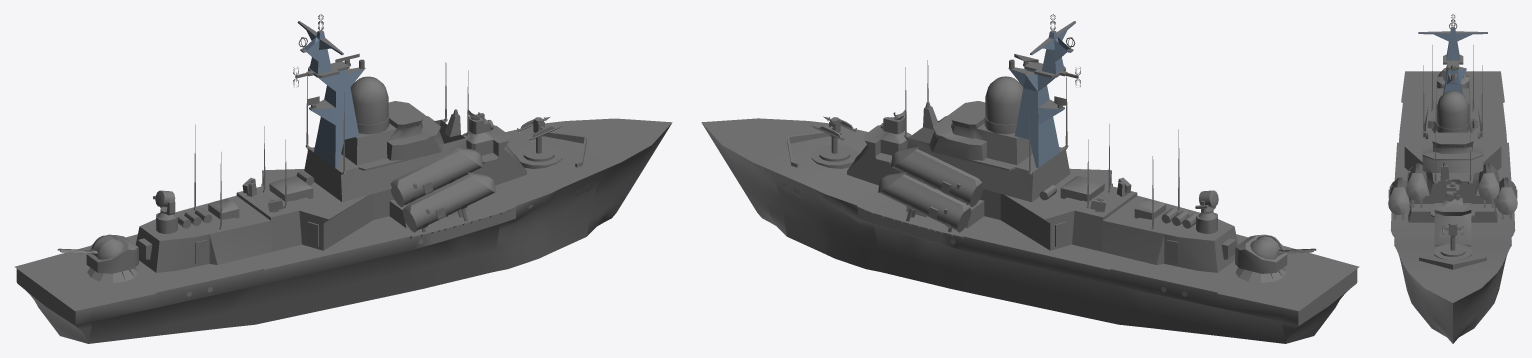
Rendered from ship.obj.
3 views of the same model, side by side, from view 1: azimuth 30°, elevation 25°; view 2: azimuth 150°, elevation 25°; view 3: azimuth 270°, elevation 25° (orthographic). The views are drawn at different scales.
Parts seen in each view (by area): view 1: SOVRA, hull0, deck, subhull, STYX, ad, BAND-STAND, guntower, ap, STILOS, line; view 2: SOVRA, hull0, deck, subhull, STYX, as, BAND-STAND, guntower, ap, STILOS, line; view 3: deck, SOVRA, STYX, hull0, subhull, BAND-STAND, aa, STILOS, POP-GROUP, guntower, LAN-GK, alb (+1 smaller).
Boxes of the visible parts, x1,y1,x2,y2 form: SOVRA: [87, 14, 586, 282]; hull0: [16, 123, 671, 342]; deck: [14, 118, 672, 310]; subhull: [39, 187, 632, 343]; STYX: [389, 116, 495, 232]; ad: [303, 32, 365, 167]; BAND-STAND: [350, 76, 388, 124]; guntower: [86, 234, 138, 273]; ap: [297, 21, 341, 167]; STILOS: [194, 62, 468, 226]; line: [38, 185, 633, 343]; SOVRA: [787, 14, 1286, 282]; hull0: [702, 123, 1357, 342]; deck: [701, 118, 1359, 310]; subhull: [741, 187, 1333, 343]; STYX: [878, 116, 984, 232]; as: [1008, 32, 1070, 167]; BAND-STAND: [985, 76, 1023, 124]; guntower: [1235, 234, 1287, 273]; ap: [1027, 21, 1075, 167]; STILOS: [905, 60, 1179, 226]; line: [740, 185, 1335, 343]; deck: [1390, 71, 1515, 302]; SOVRA: [1400, 14, 1505, 269]; STYX: [1388, 163, 1517, 222]; hull0: [1393, 102, 1512, 329]; subhull: [1403, 272, 1502, 343]; BAND-STAND: [1437, 90, 1468, 129]; aa: [1418, 28, 1487, 93]; STILOS: [1423, 45, 1482, 180]; POP-GROUP: [1444, 179, 1461, 201]; guntower: [1437, 68, 1468, 88]; LAN-GK: [1448, 222, 1457, 250]; alb: [1418, 27, 1487, 81].
Bounding box in the file's own units: 592 × 250 × 134.
